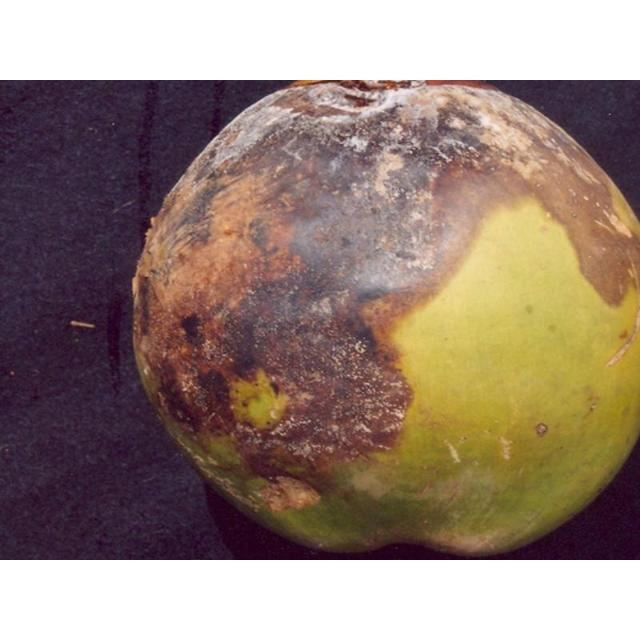damaged: (130, 80, 639, 559)
